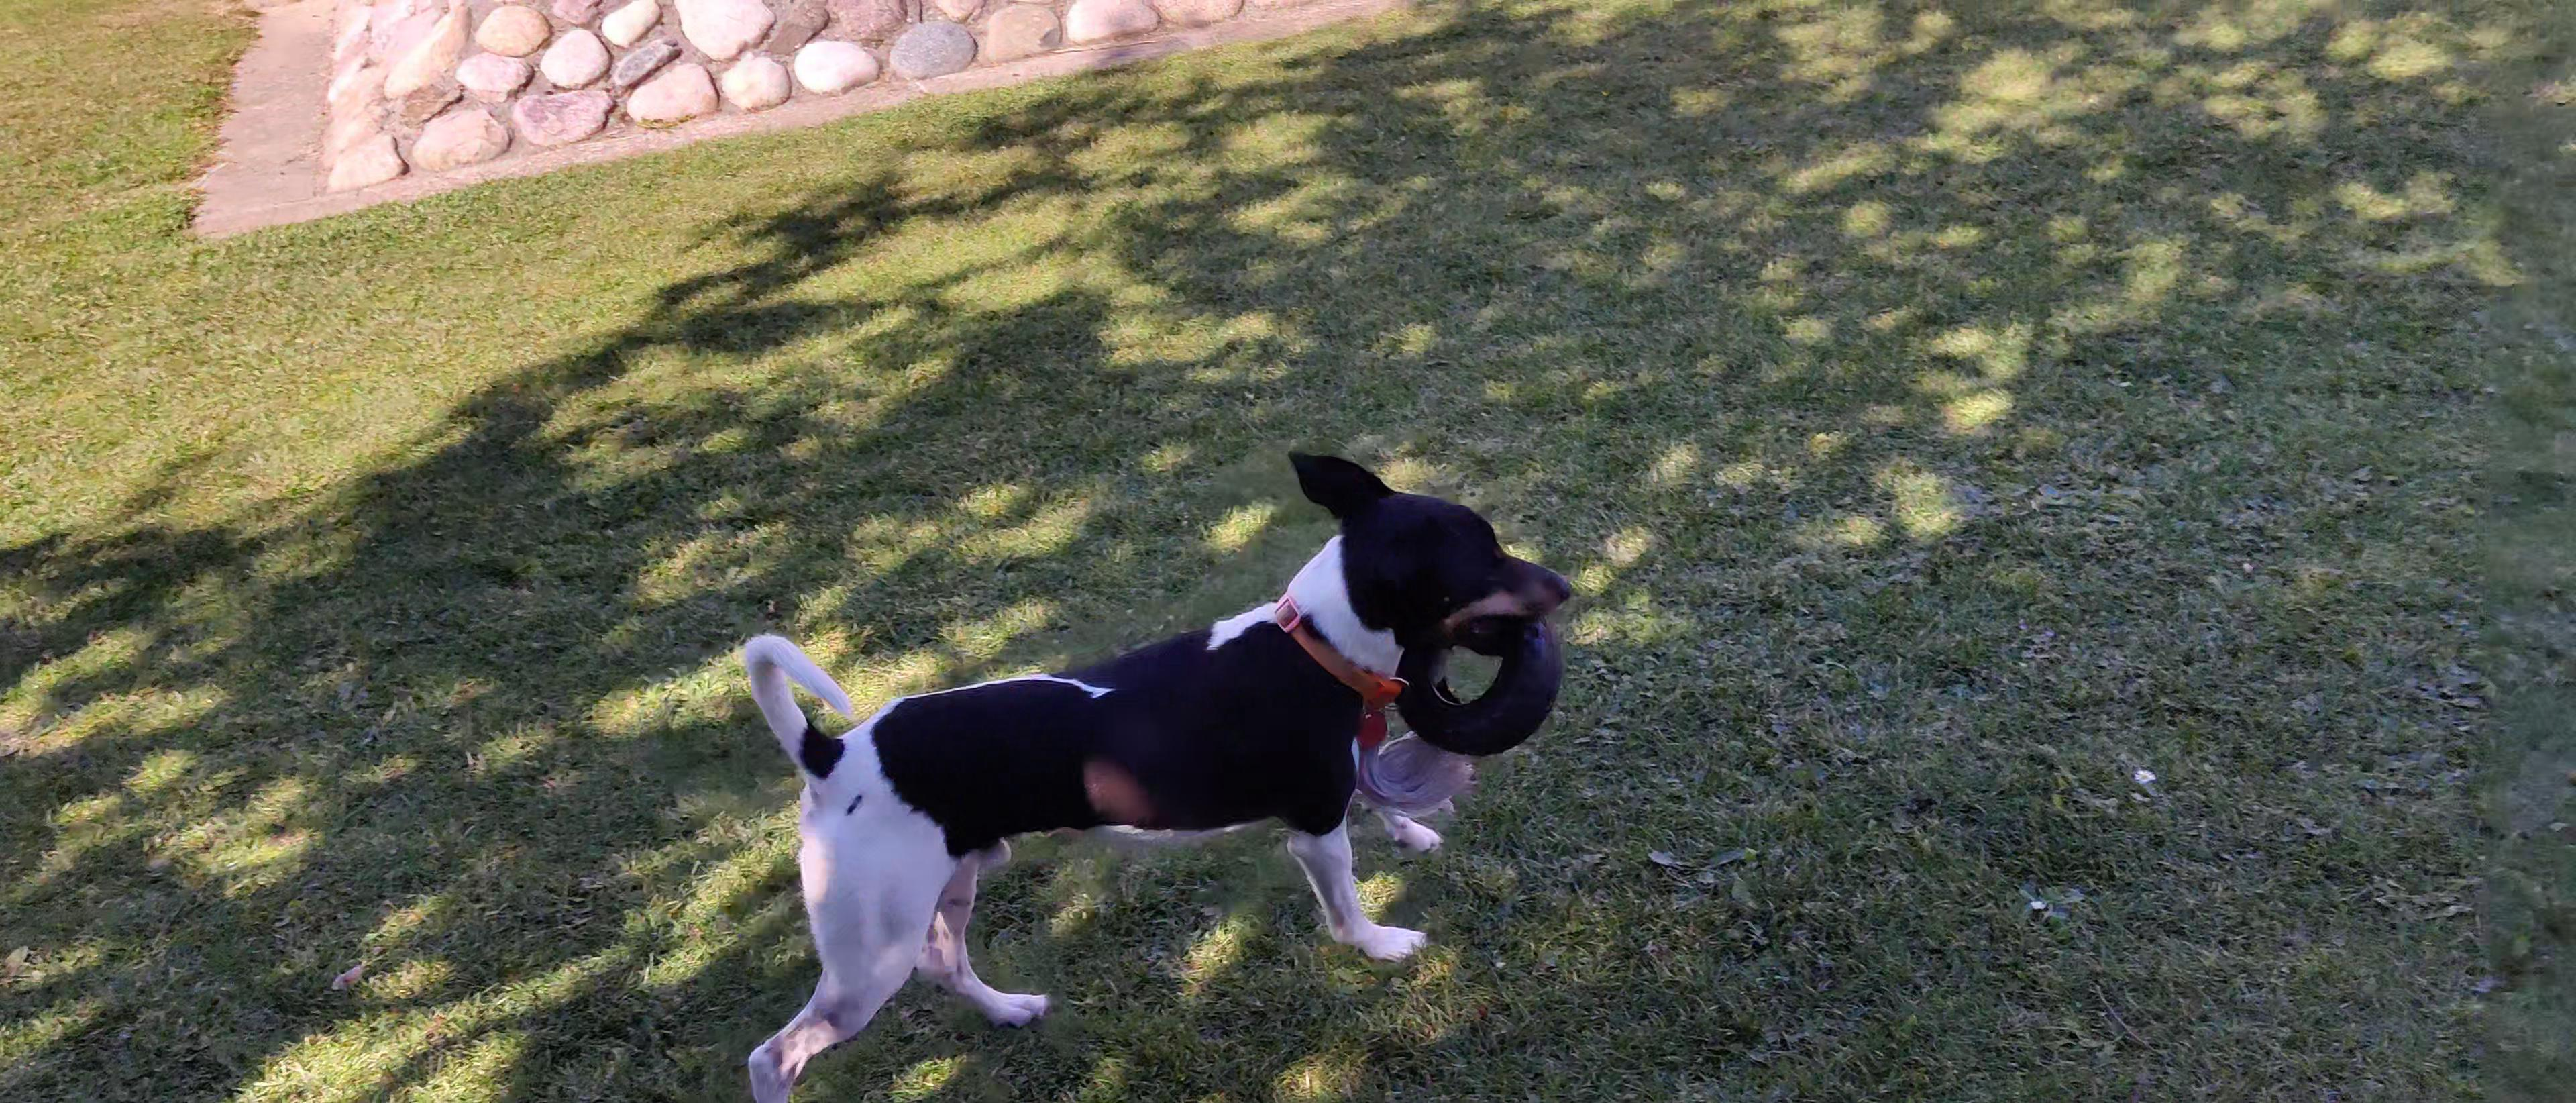Dog: (733, 442, 1589, 1103)
